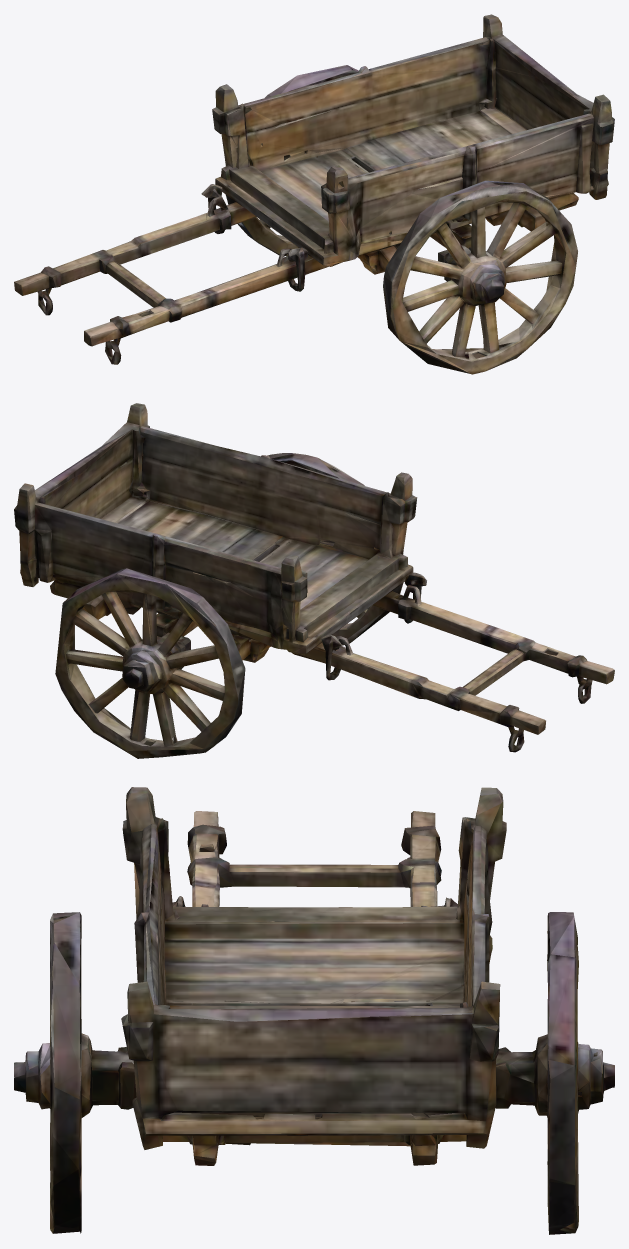
The model's file is horseCart.glb.
3 views of the same model, one above another, from view 1: azimuth 30°, elevation 25°; view 2: azimuth 150°, elevation 25°; view 3: azimuth 270°, elevation 25° (orthographic). The views are drawn at different scales.
Parts seen in each view (by area): view 1: geometry_0; view 2: geometry_0; view 3: geometry_0.
Part boxes in pixels (<box>): geometry_0: <box>14,14,614,374</box>; geometry_0: <box>14,403,614,758</box>; geometry_0: <box>14,787,614,1234</box>.
Bounding box in the file's own units: 0.9974 × 0.4138 × 0.6513.
1 material, 1 textured.
